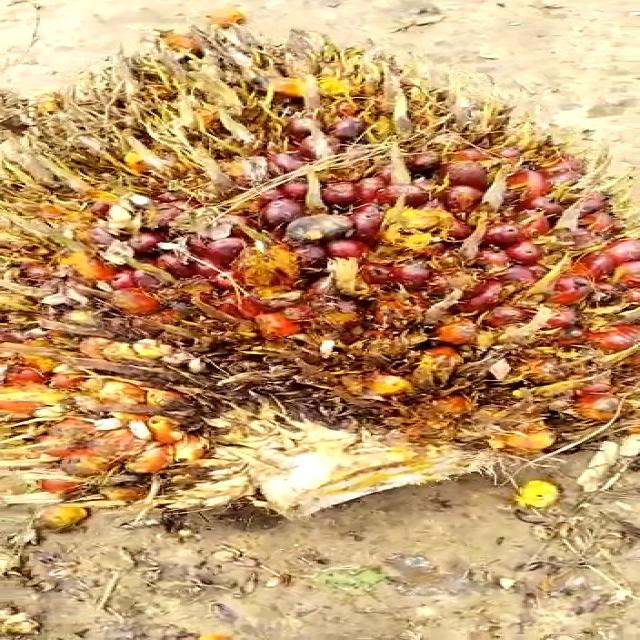palm oil: (0, 34, 640, 520)
